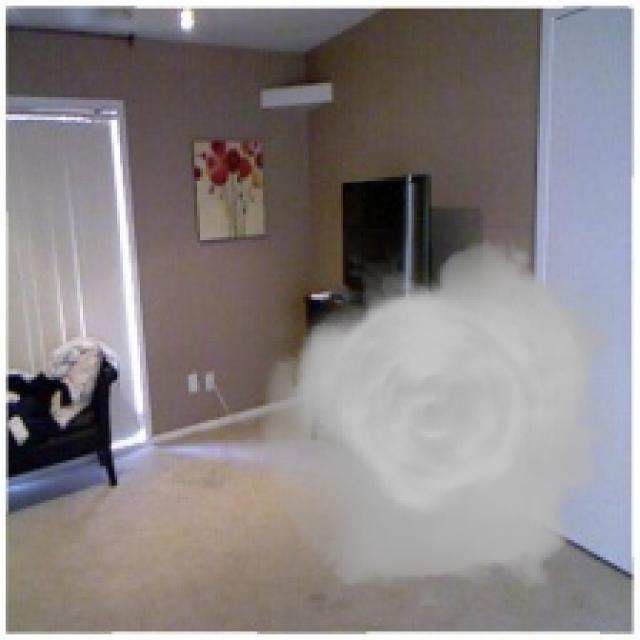smoke: (260, 228, 617, 606)
